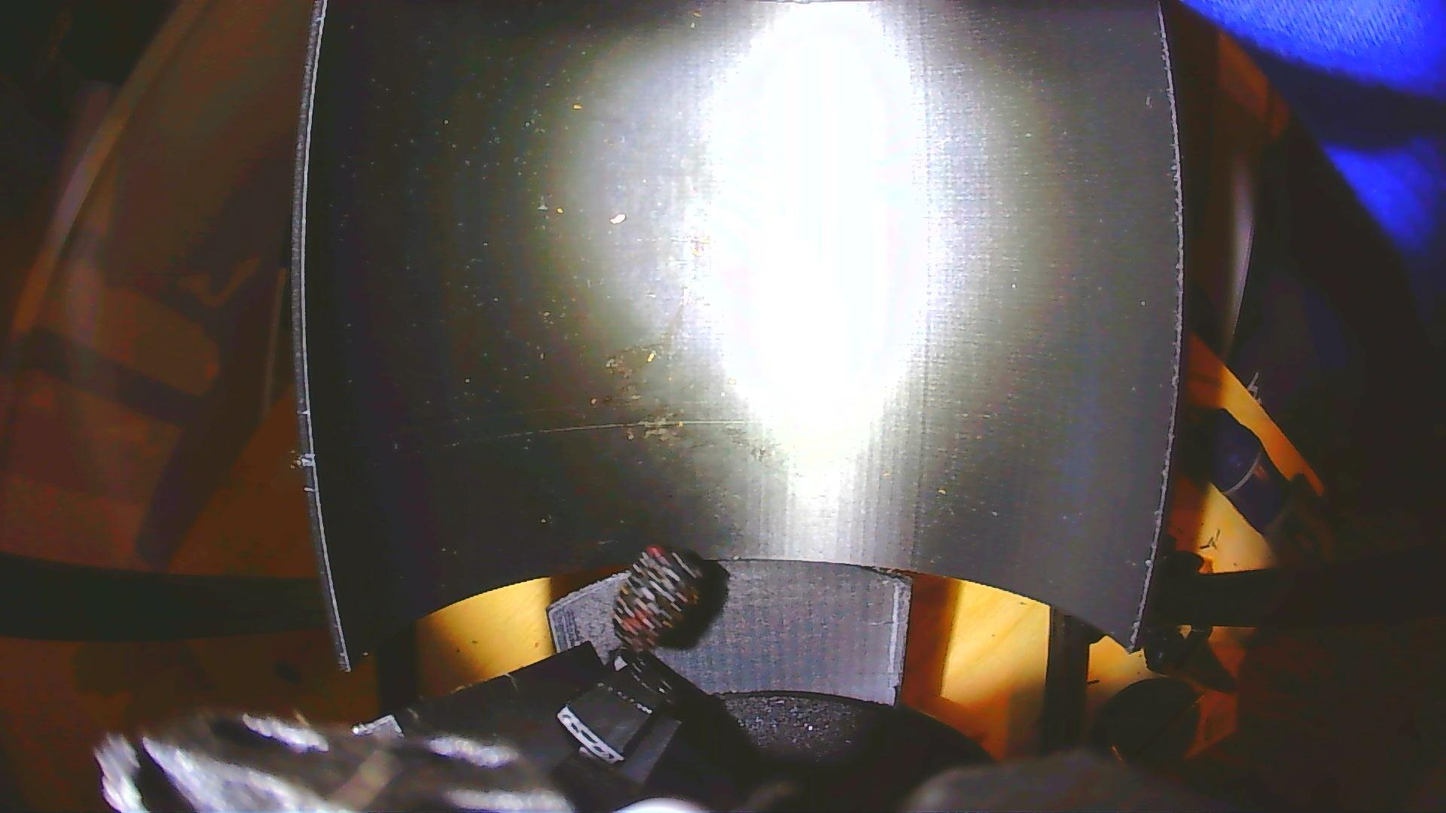berry: (612, 547, 705, 651)
